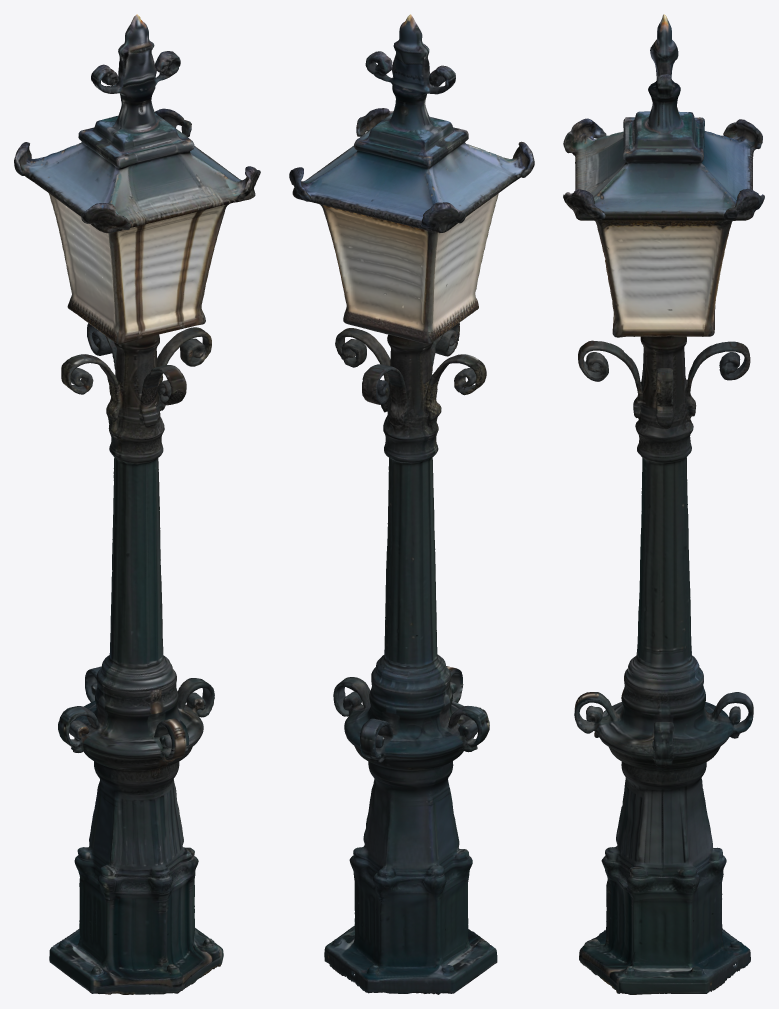
File: lamp.glb
The picture shows the model from 3 angles, left to right: view 1: azimuth 30°, elevation 25°; view 2: azimuth 150°, elevation 25°; view 3: azimuth 270°, elevation 25°; orthographic projection.
Bounding box in the file's own units: 0.3878 × 2.01 × 0.386.
Materials: 1 (1 with a texture image).
